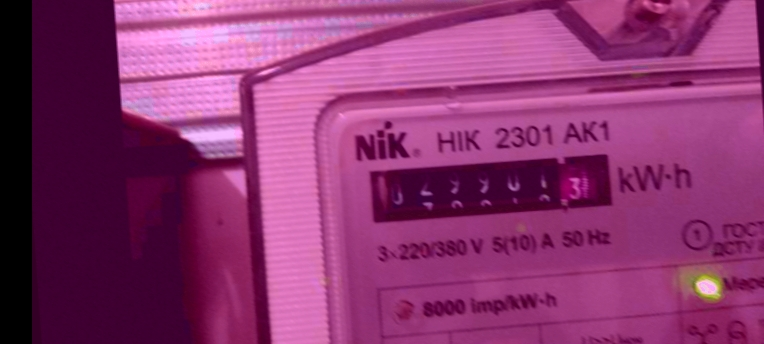0: (386, 178, 406, 206), (504, 163, 522, 193)
1: (535, 160, 550, 189)
2: (416, 170, 435, 198)
3: (565, 173, 584, 200)
9: (446, 168, 463, 196), (476, 167, 491, 194)
screen: (360, 142, 624, 232)
